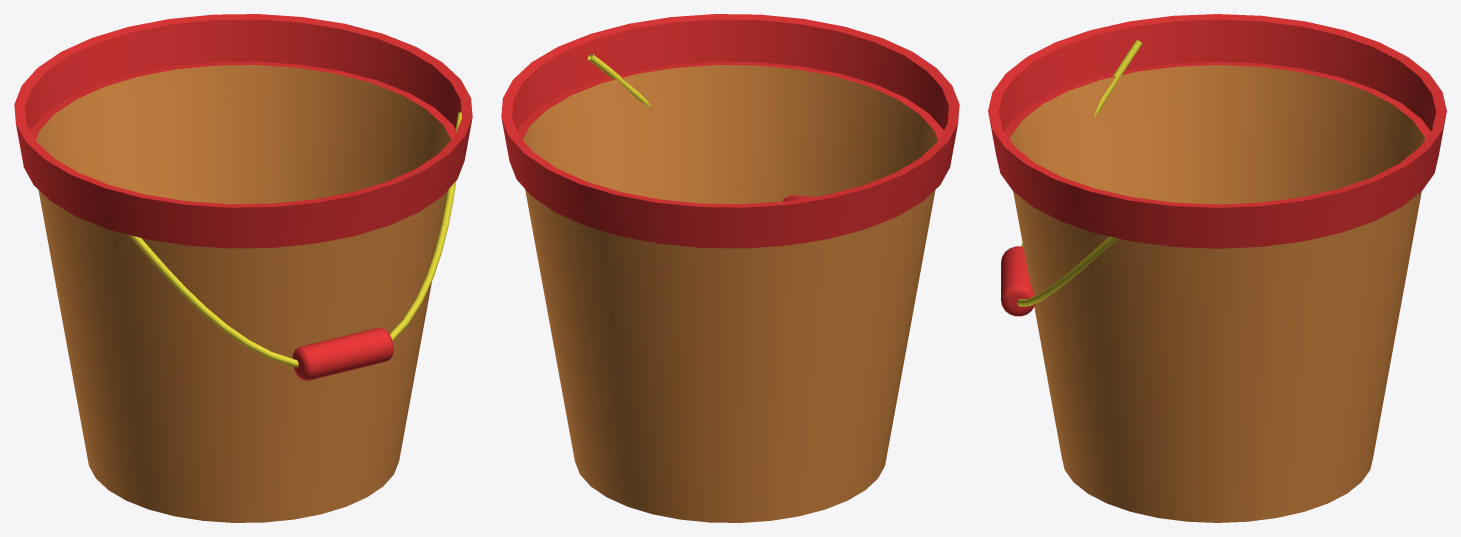
Rendered from bucket2.fbx.
3 views of the same model, side by side, from view 1: azimuth 30°, elevation 25°; view 2: azimuth 150°, elevation 25°; view 3: azimuth 270°, elevation 25° (orthographic).
Parts seen in each view (by area): view 1: Cylinder.001; view 2: Cylinder.001; view 3: Cylinder.001.
Boxes of the visible parts, x1,y1,x2,y2 form: Cylinder.001: [14, 14, 472, 522]; Cylinder.001: [501, 14, 959, 522]; Cylinder.001: [988, 14, 1446, 522].
Size of the model in its own units: 265 by 221 by 265.
